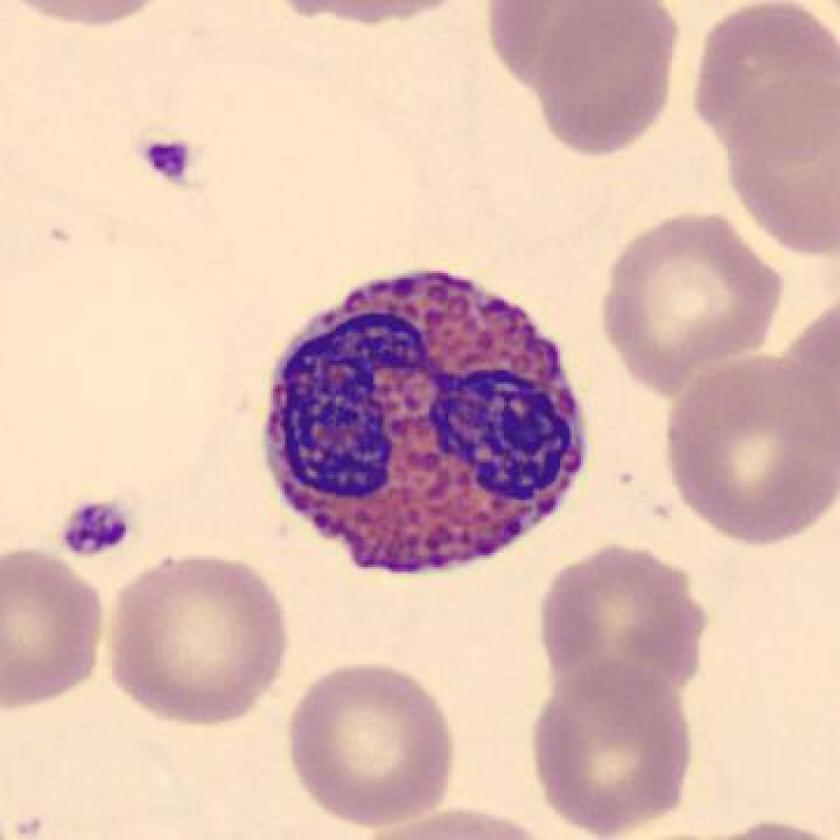eosinophil: (246, 258, 601, 586)
